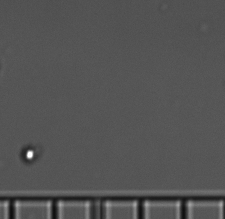Living Cell: (19, 143, 39, 164)
